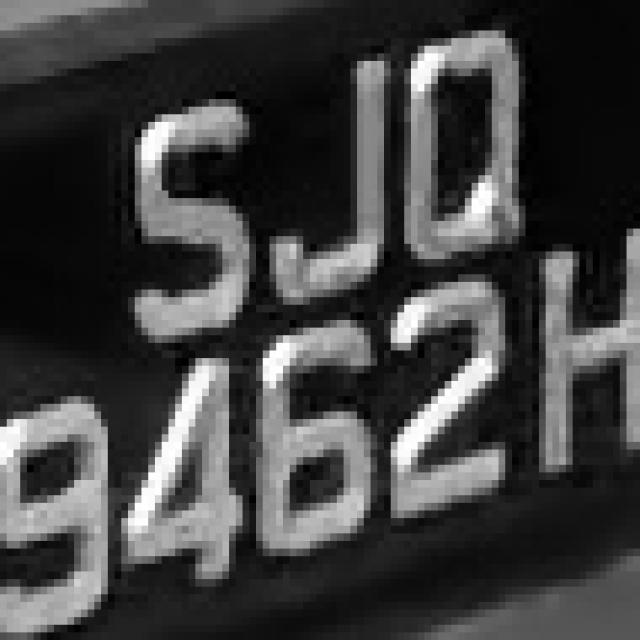2: (357, 267, 526, 541)
4: (101, 328, 263, 632)
6: (236, 305, 377, 571)
9: (0, 381, 115, 640), (0, 4, 1, 8)
H: (532, 213, 640, 472), (5, 3, 7, 6)
J: (243, 46, 404, 312)
Q: (390, 16, 546, 274)
S: (108, 76, 256, 343)
